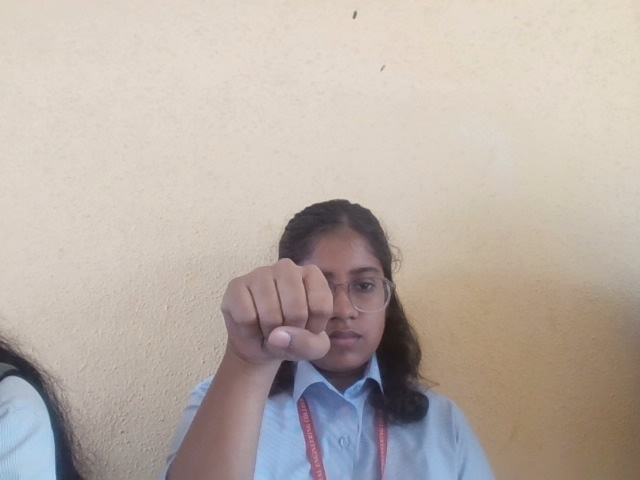Yes: (214, 258, 337, 372)
